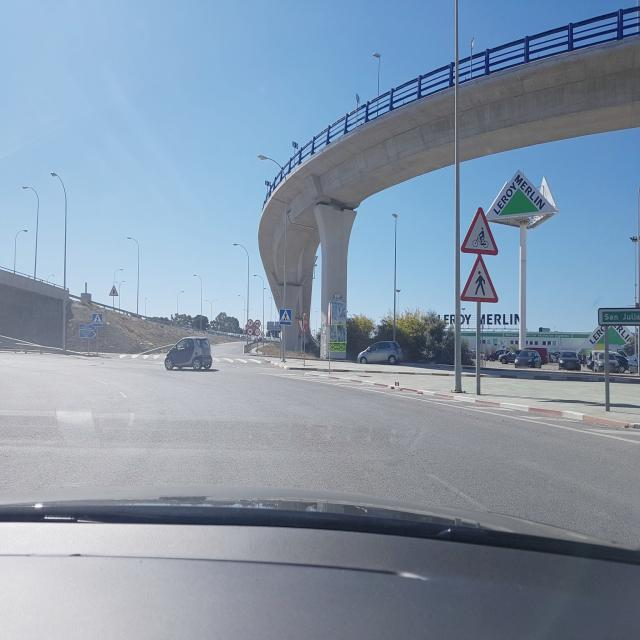car: (164, 337, 213, 371), (356, 340, 404, 365), (591, 350, 629, 374), (514, 349, 542, 368), (558, 351, 582, 372), (487, 348, 508, 362), (500, 350, 518, 363)
